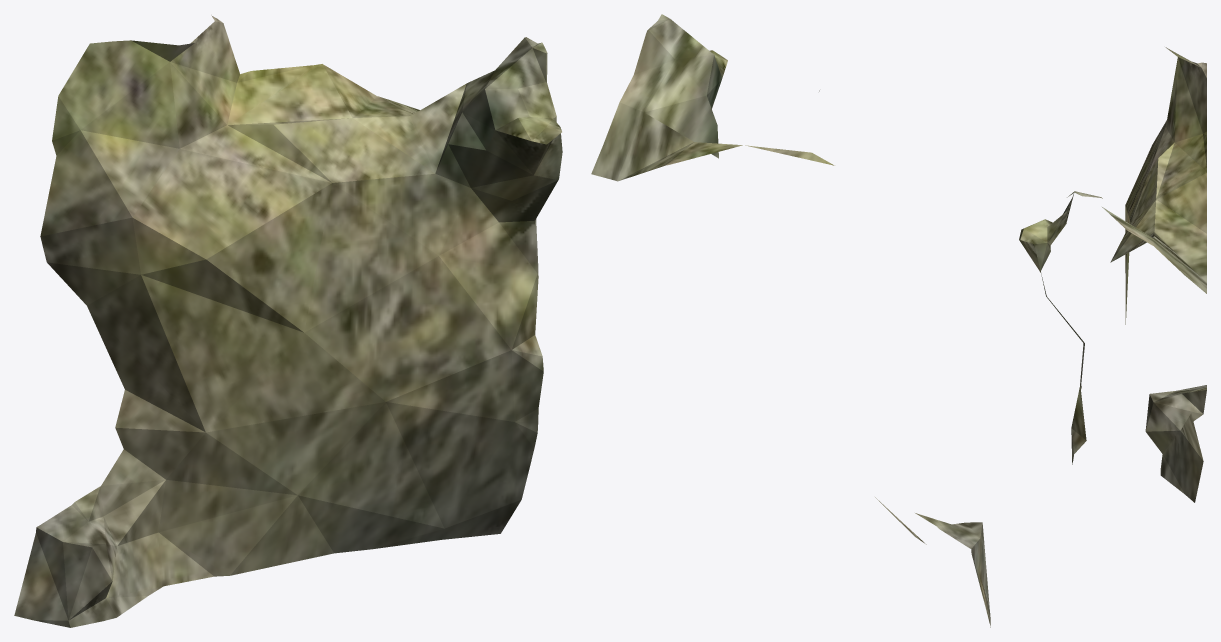
3 renders of one model, left to right at view 1: azimuth 30°, elevation 25°; view 2: azimuth 150°, elevation 25°; view 3: azimuth 270°, elevation 25°, orthographic. The views are drawn at different scales.
Size of the model in its own units: 2.5 by 2.95 by 1.09.
3 materials, 3 textured.
